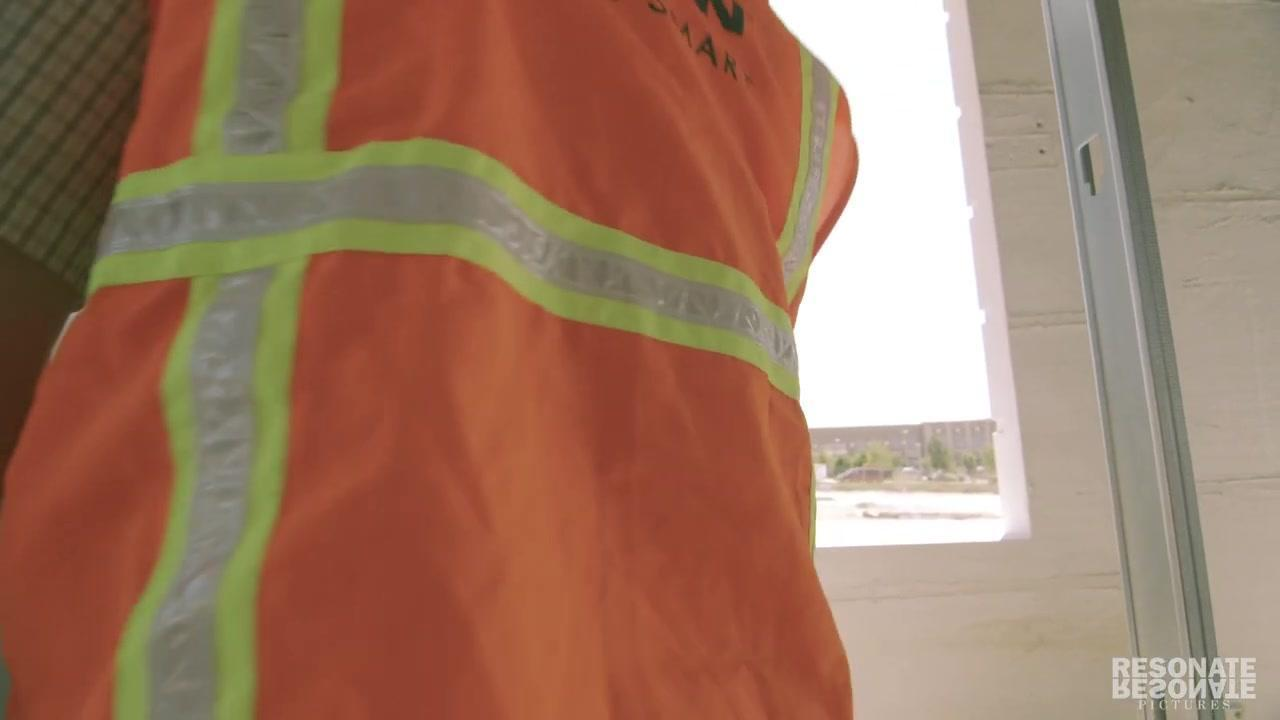vest: (1, 0, 869, 715)
